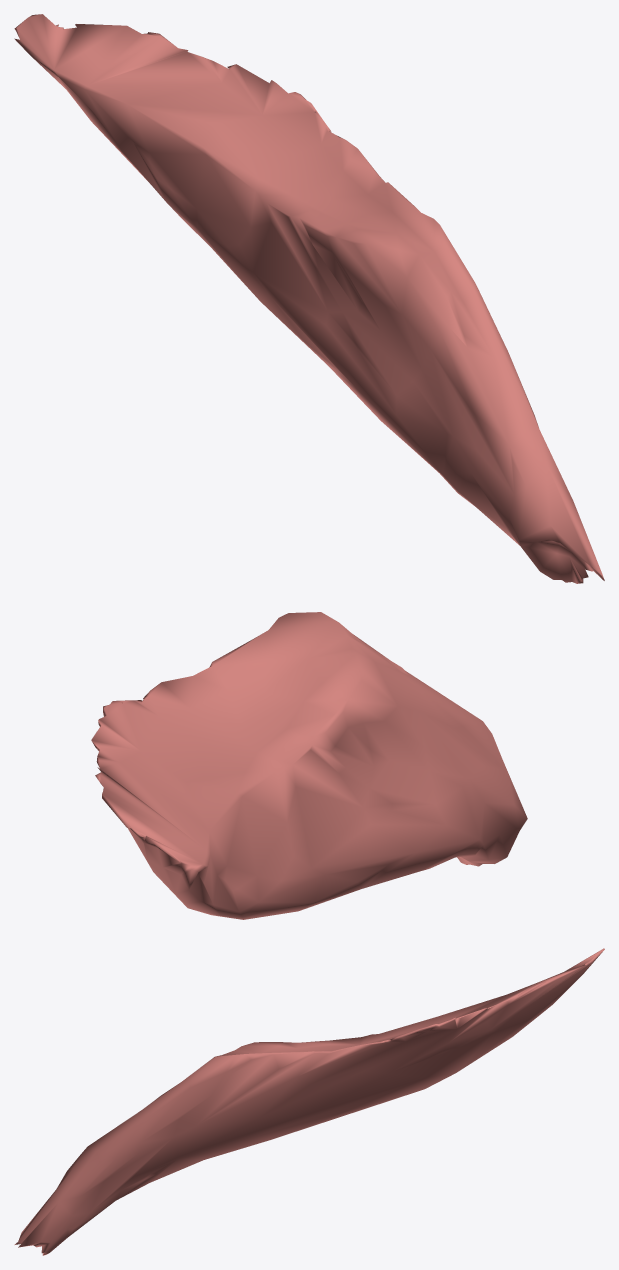
3 renders of one model, top to bottom at view 1: azimuth 30°, elevation 25°; view 2: azimuth 150°, elevation 25°; view 3: azimuth 270°, elevation 25°, orthographic. The views are drawn at different scales.
Parts seen in each view (by area): view 1: ZA_1a3de8e6fc2c343d; view 2: ZA_1a3de8e6fc2c343d; view 3: ZA_1a3de8e6fc2c343d.
Boxes of the visible parts, bbox=[...] form: ZA_1a3de8e6fc2c343d: bbox=[14, 14, 604, 583]; ZA_1a3de8e6fc2c343d: bbox=[91, 612, 527, 919]; ZA_1a3de8e6fc2c343d: bbox=[14, 948, 604, 1255].
Size of the model in its own units: 0.0143 by 0.0229 by 0.0498.
